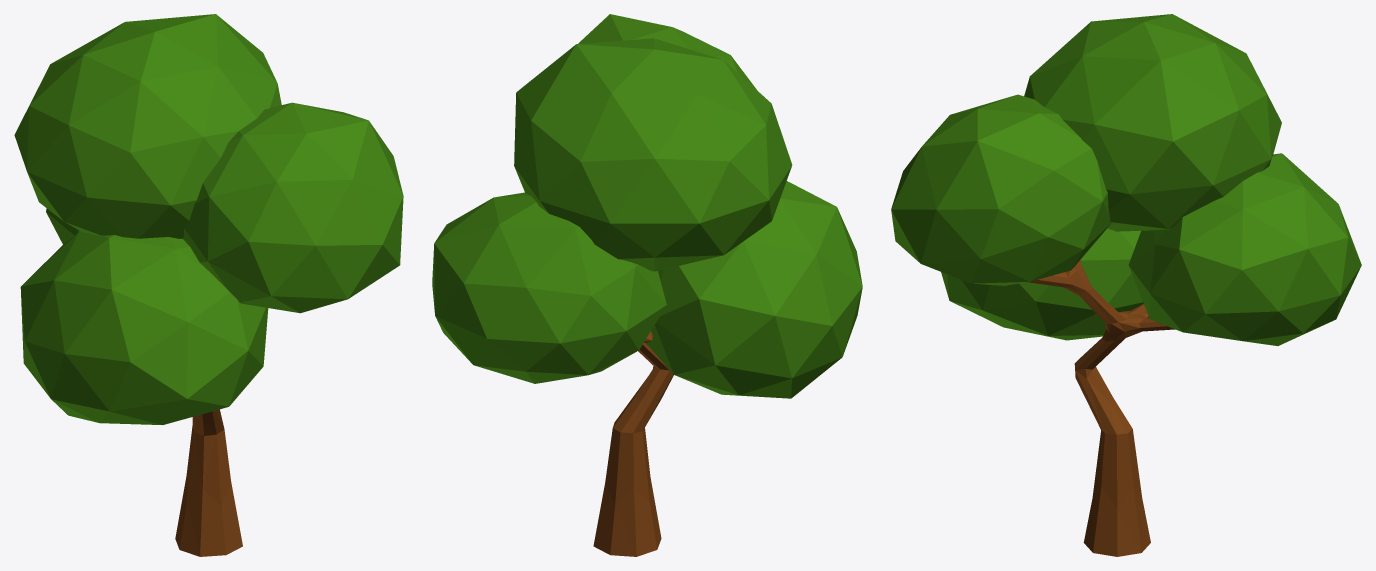
The model's file is oak_2.glb.
The picture shows the model from 3 angles, left to right: view 1: azimuth 30°, elevation 25°; view 2: azimuth 150°, elevation 25°; view 3: azimuth 270°, elevation 25°; orthographic projection. The views are drawn at different scales.
Parts seen in each view (by area): view 1: Plane.001; view 2: Plane.001; view 3: Plane.001.
Part boxes in pixels (x1,y1,x2,y2): Plane.001: [14, 14, 403, 556]; Plane.001: [432, 14, 862, 556]; Plane.001: [891, 14, 1361, 556].
Bounding box in the file's own units: 5.07 × 7.76 × 6.6.
